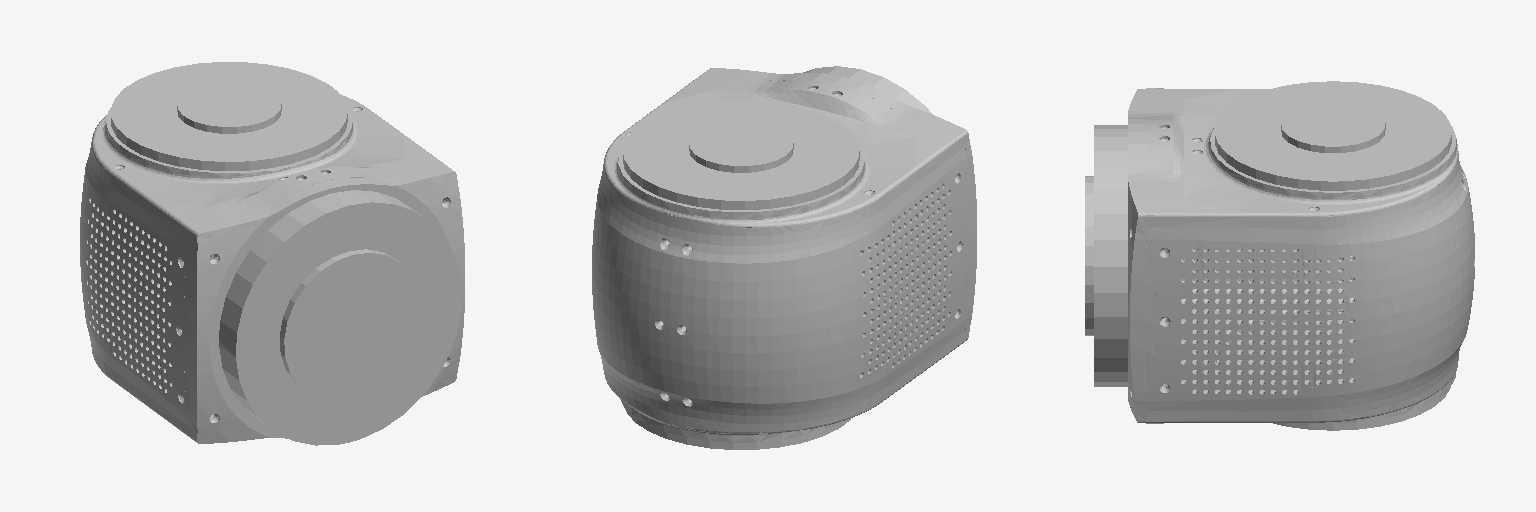
File: pelvis.obj
The picture shows the model from 3 angles: view 1: azimuth 30°, elevation 25°; view 2: azimuth 150°, elevation 25°; view 3: azimuth 270°, elevation 25°; orthographic projection.
Parts seen in each view (by area): view 1: pelvis; view 2: pelvis; view 3: pelvis.
Boxes of the visible parts, box(x1,y1,x2,y2) form: pelvis: box(80, 62, 464, 445); pelvis: box(592, 66, 976, 449); pelvis: box(1085, 81, 1474, 430).
Bounding box in the file's own units: 0.168 × 0.155 × 0.209.